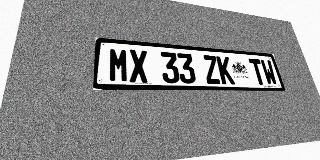3: (160, 52, 180, 83), (177, 53, 196, 84)
K: (216, 56, 235, 84)
M: (108, 48, 129, 82)
T: (248, 58, 267, 85)
W: (260, 59, 278, 85)
X: (129, 49, 149, 83)
Z: (202, 55, 221, 84)
